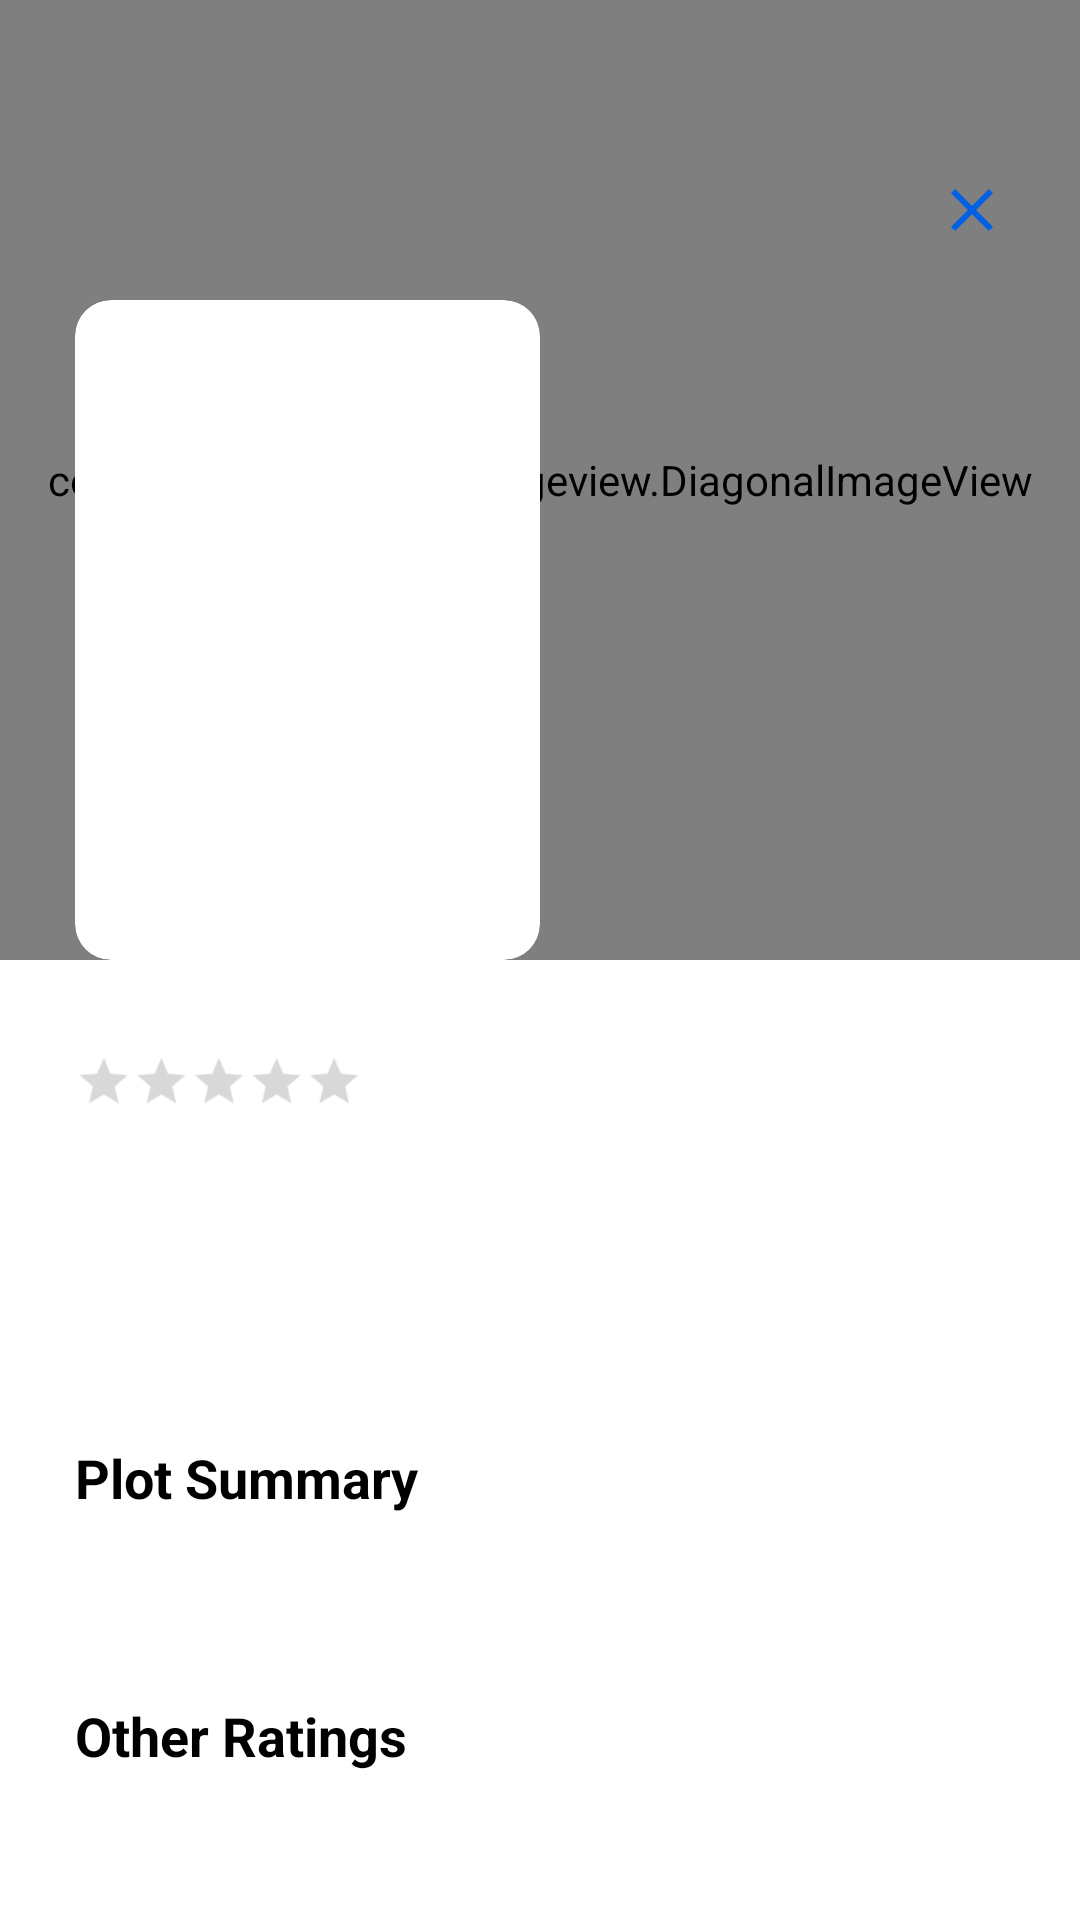

Icons on this 1080 × 1920 Android screen, each with the point to tap as point (x, y):
close: point (972, 210)
